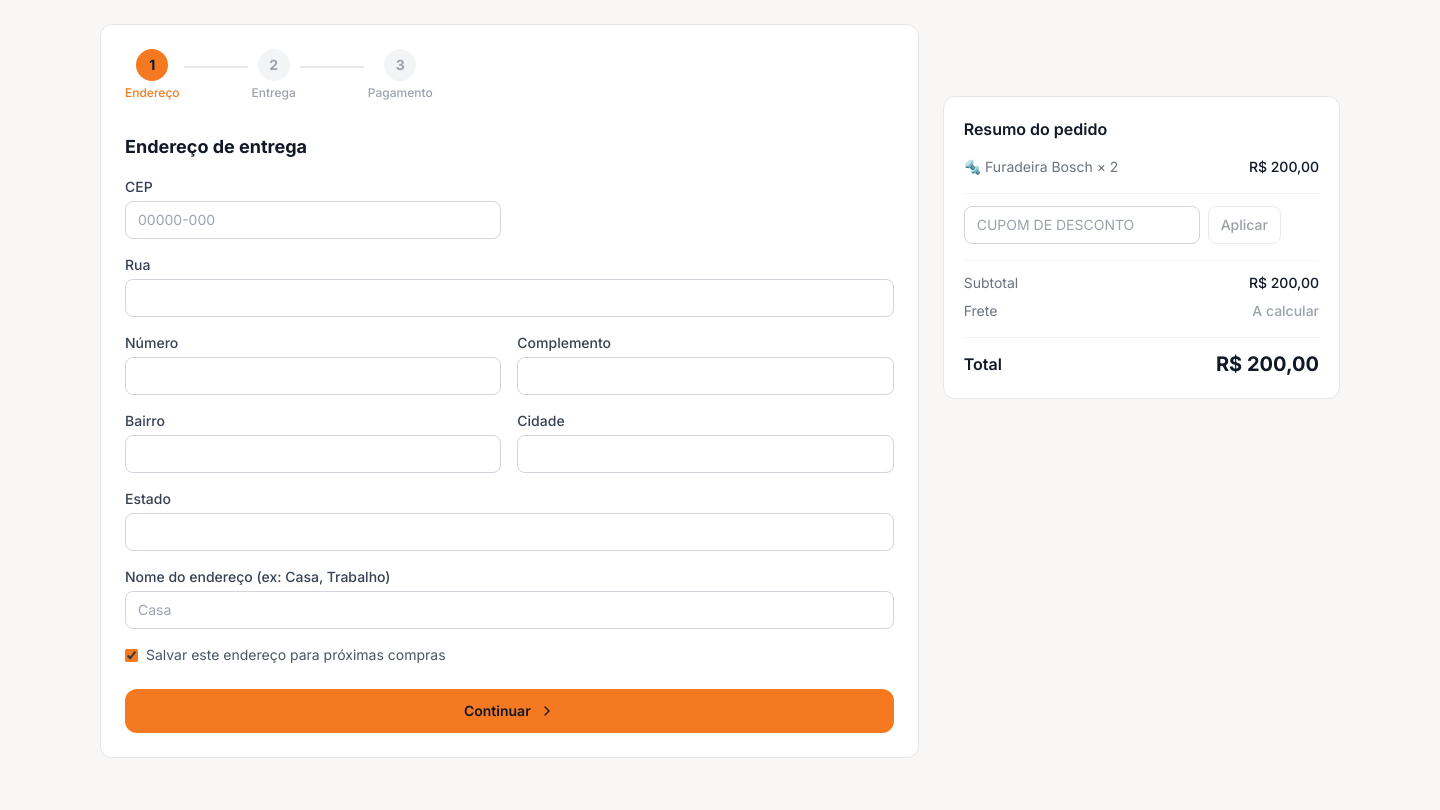
Test case: CheckoutPage — cupom de desconto › aplica cupom válido e abate o desconto do total
In the field labelled "Cupom de desconto": (1082, 225) [964, 206, 1200, 244], type "obra10"
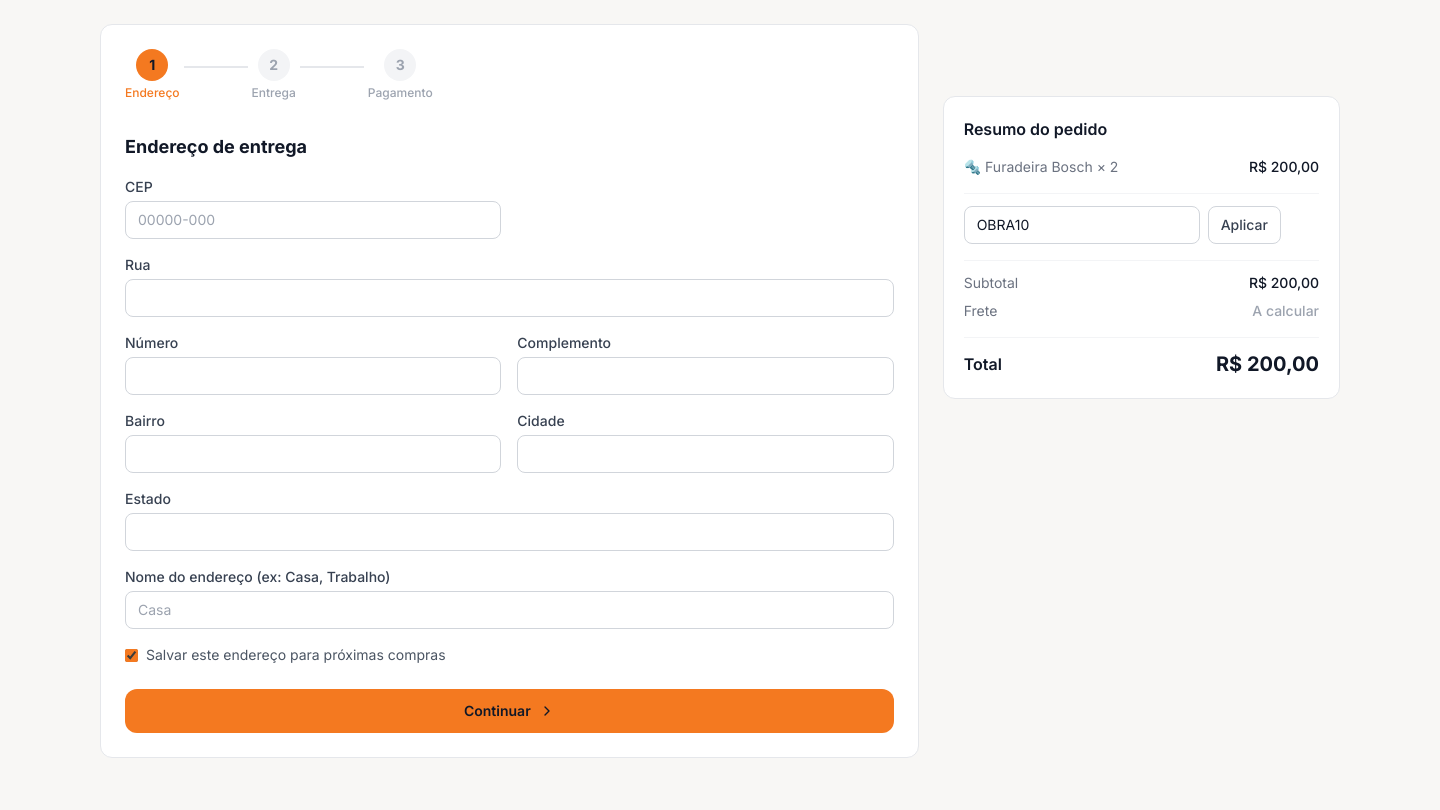
Click the button "Aplicar": (1244, 225) [1208, 206, 1281, 244]
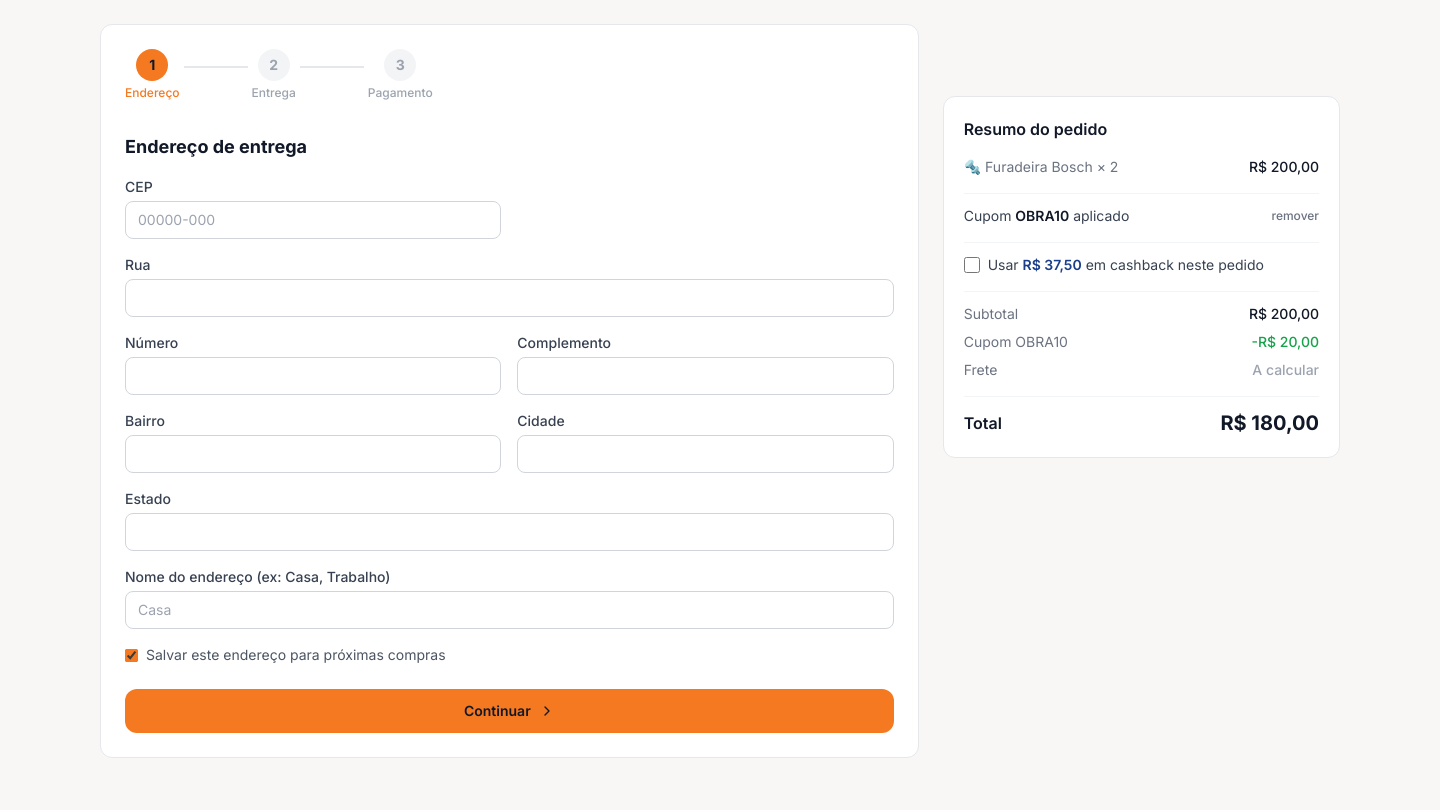
Check: the button "remover" is shown, box [1272, 208, 1319, 224]
Check: the text "-R$ 20,00" is shown, box [1251, 332, 1319, 352]
